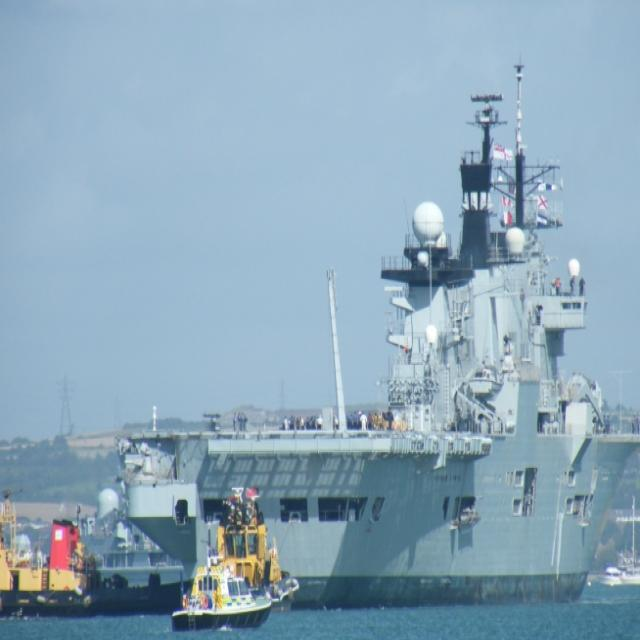Portanaves: (94, 26, 640, 612)
